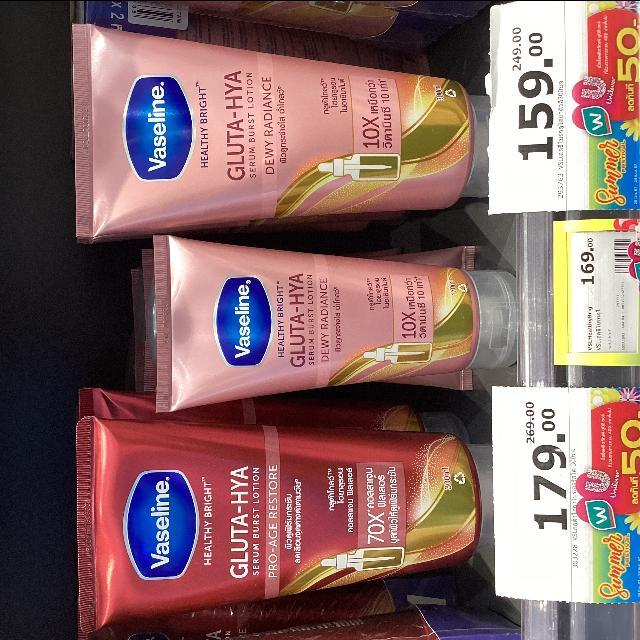Squeeze Tube: (38, 396, 503, 636), (52, 11, 519, 233), (128, 229, 560, 420)
